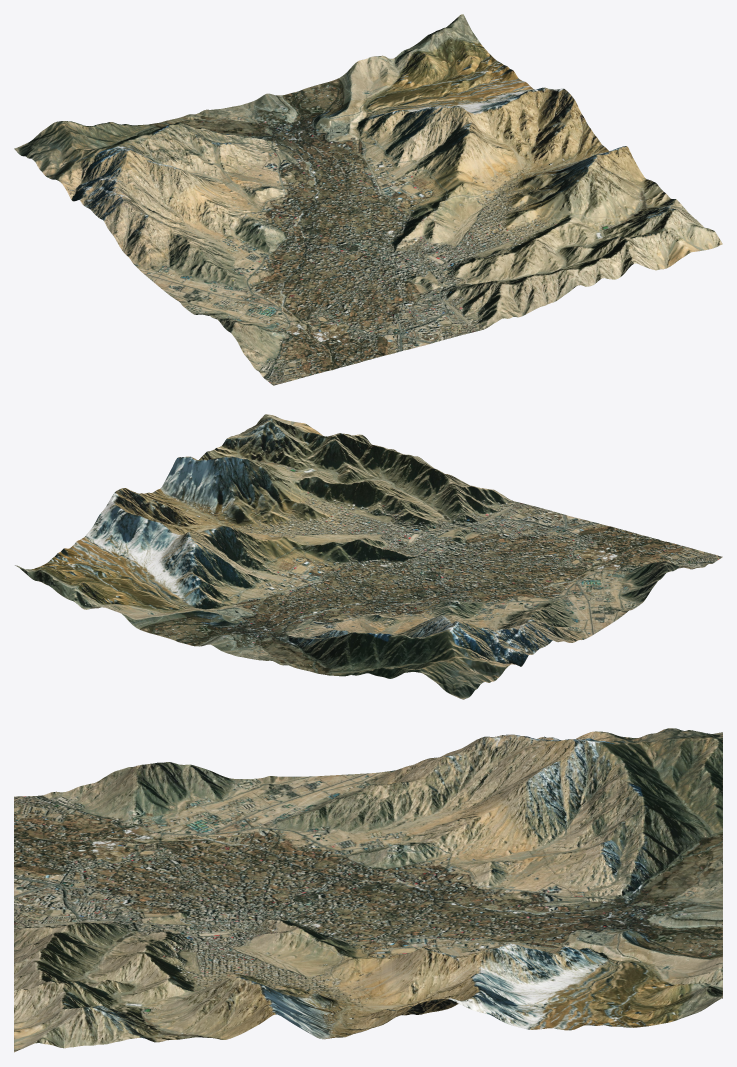
File: terrain-imagery.glb
3 renders of one model, top to bottom at view 1: azimuth 30°, elevation 25°; view 2: azimuth 150°, elevation 25°; view 3: azimuth 270°, elevation 25°, orthographic. The views are drawn at different scales.
Visible parts, largest first — view 1: Terrain_BlenderGIS; view 2: Terrain_BlenderGIS; view 3: Terrain_BlenderGIS.
Part boxes in pixels (box(x1,y1,x2,y2)): Terrain_BlenderGIS: box(14, 14, 722, 385); Terrain_BlenderGIS: box(15, 414, 722, 699); Terrain_BlenderGIS: box(14, 728, 722, 1052).
Size of the model in its own units: 5000 by 768 by 5000.
Materials: 1 (1 with a texture image).
